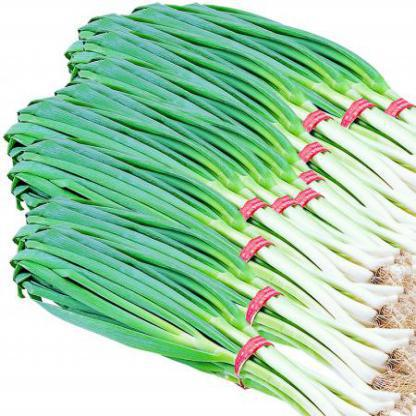green onion: (13, 11, 415, 414), (5, 130, 396, 336), (25, 190, 405, 392), (49, 74, 384, 298), (4, 226, 393, 415), (57, 58, 403, 252)
